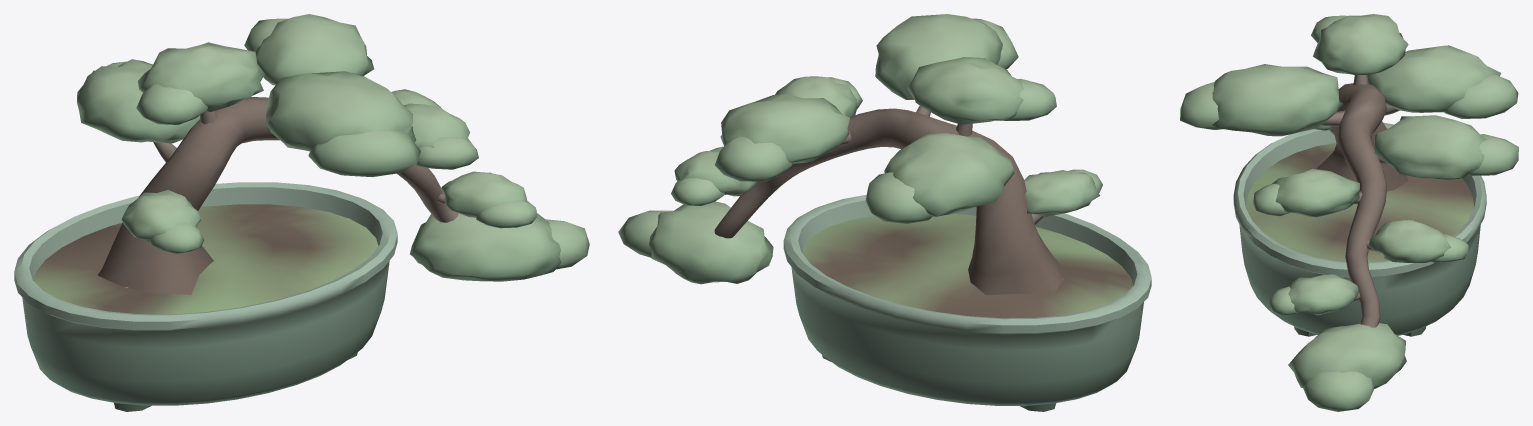
Rendered from bonsai_stage3.glb.
3 renders of one model, left to right at view 1: azimuth 30°, elevation 25°; view 2: azimuth 150°, elevation 25°; view 3: azimuth 270°, elevation 25°, orthographic. The views are drawn at different scales.
Visible parts, largest first — view 1: bonsai_stage3; view 2: bonsai_stage3; view 3: bonsai_stage3.
Boxes of the visible parts, x1,y1,x2,y2 form: bonsai_stage3: (14, 14, 589, 411); bonsai_stage3: (618, 14, 1151, 411); bonsai_stage3: (1180, 14, 1518, 411).
Size of what is drawn, in the model's own units: 0.5675 by 0.3064 by 0.3549.
